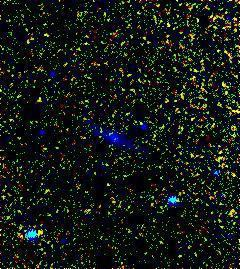star: (28, 216, 58, 246)
